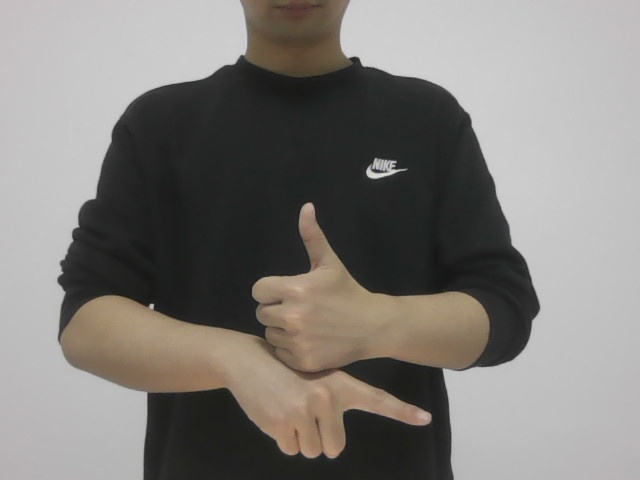birthday: (226, 197, 432, 465)
